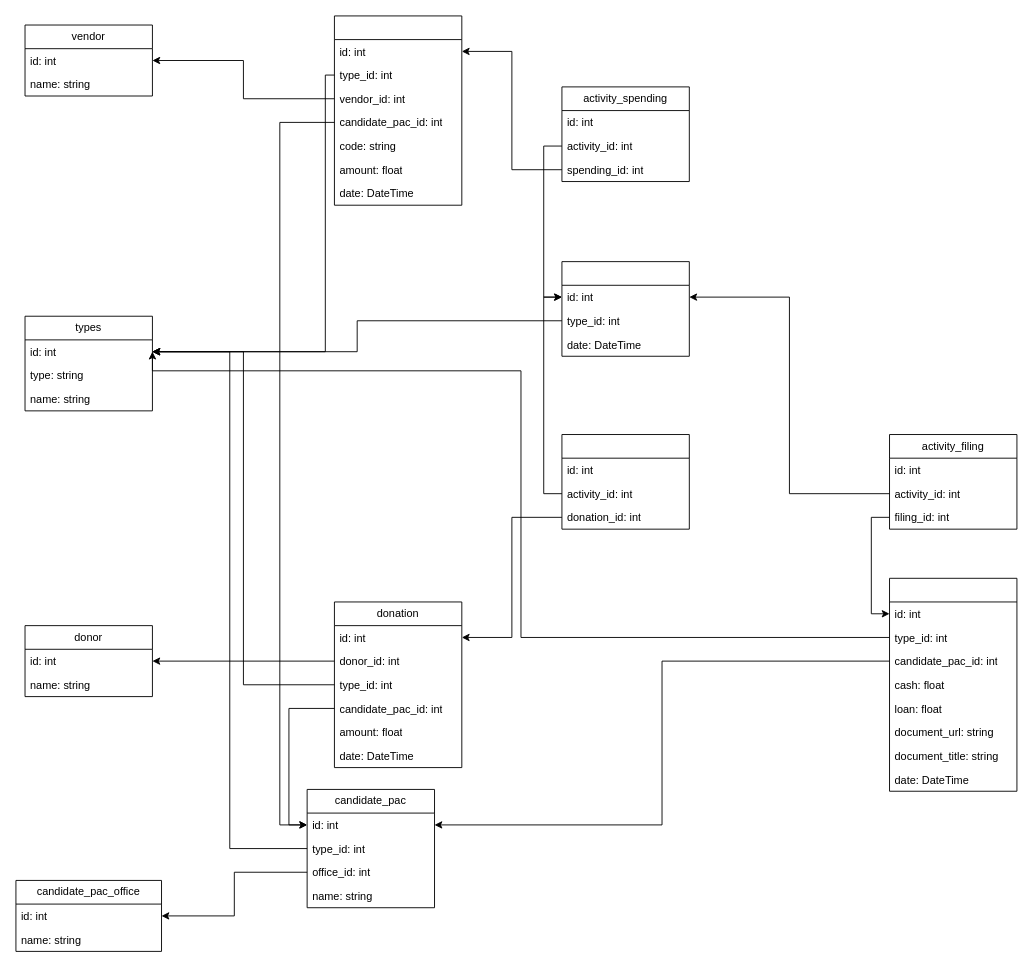
This 1033x970 diagram has some shape labels left out. Here are the shapes that lost their labels. From the top down, the box of each, then its label:
(334, 15, 462, 205): spending
(561, 261, 689, 356): activity
(561, 434, 689, 529): activity_donation
(889, 577, 1017, 791): filing
